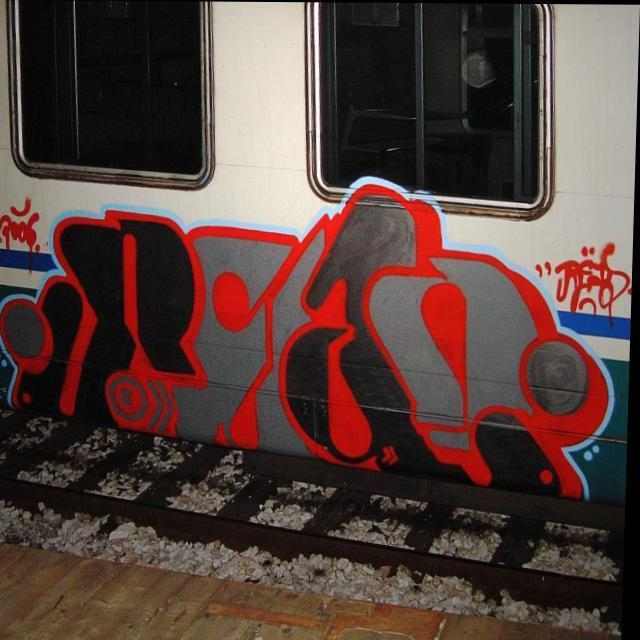-: (0, 172, 636, 502), (536, 234, 634, 316), (0, 188, 48, 258)
